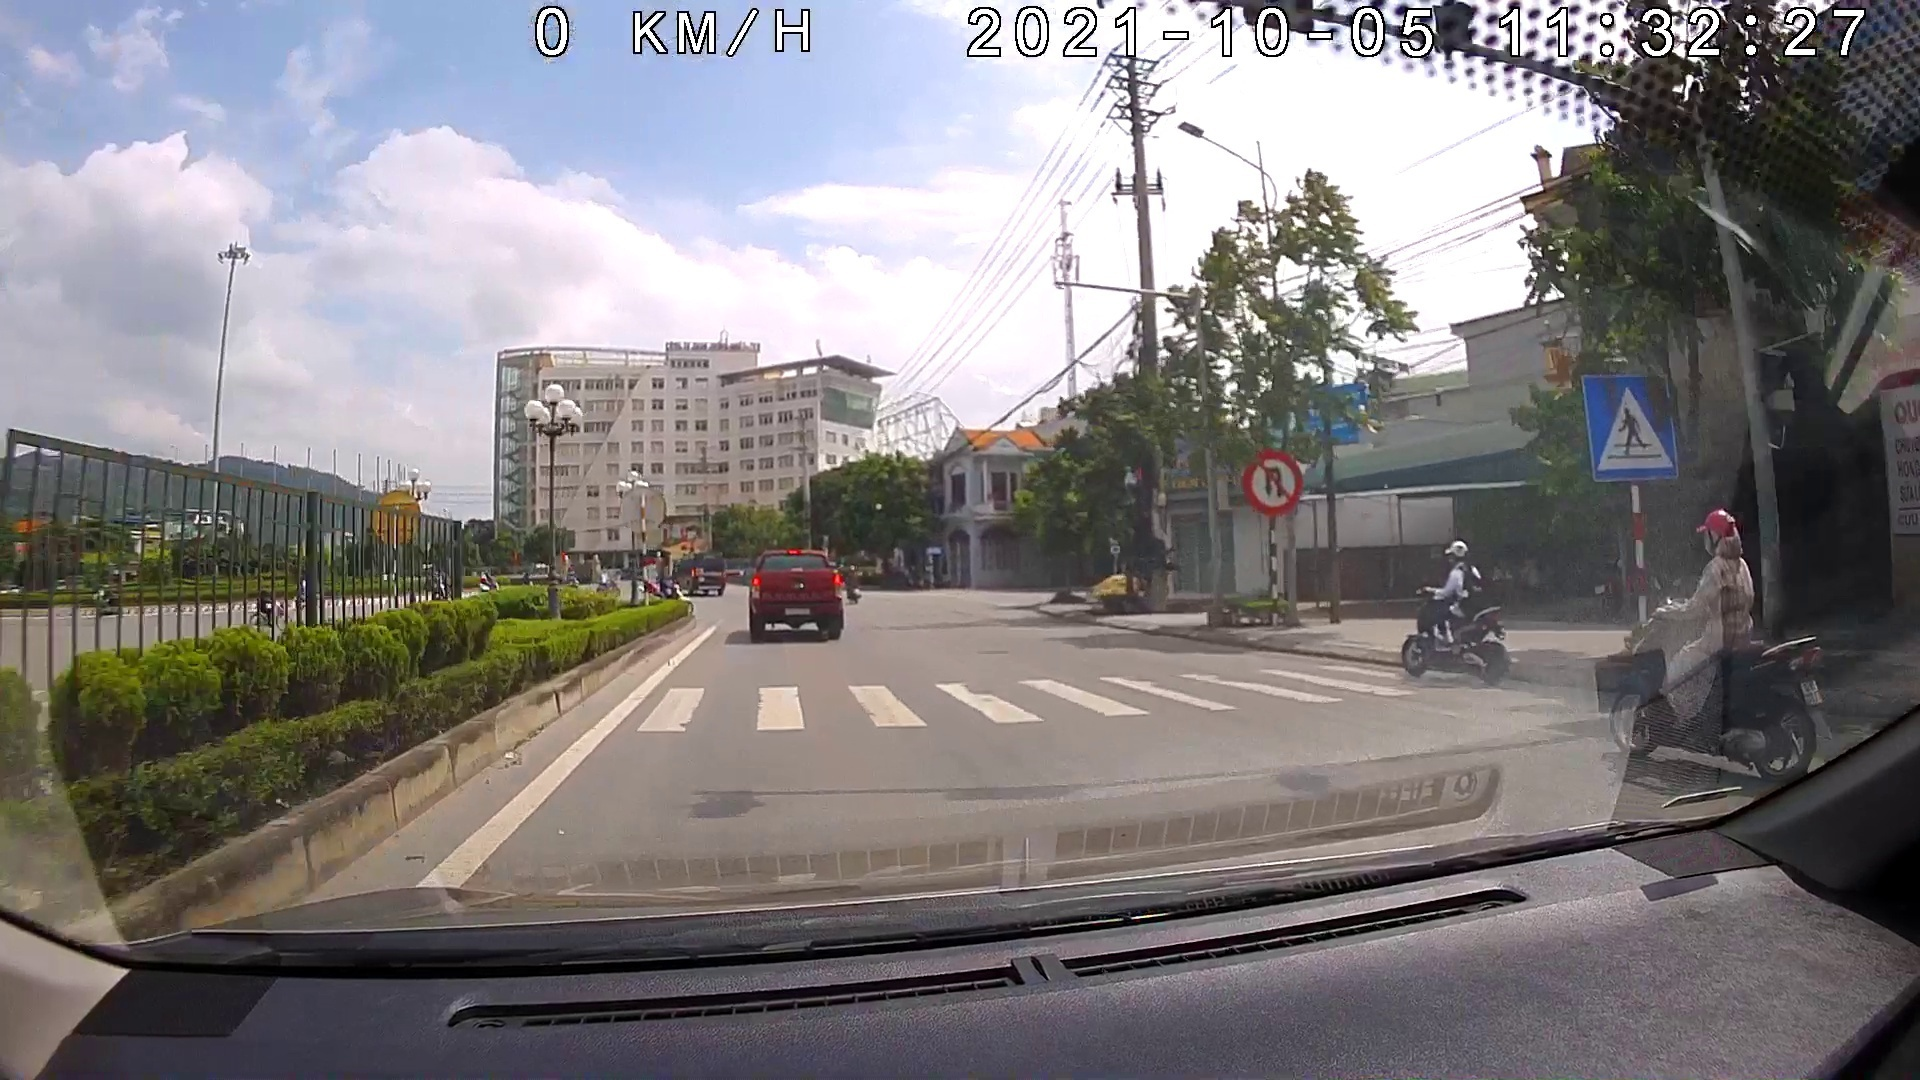Bien khac: (1242, 448, 1302, 516)
Nguoi di bo: (1581, 372, 1680, 480)
